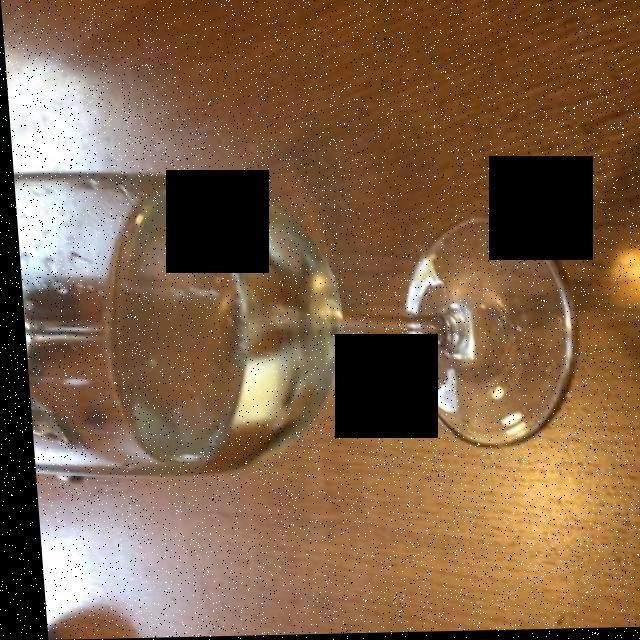wine: (113, 190, 347, 473)
